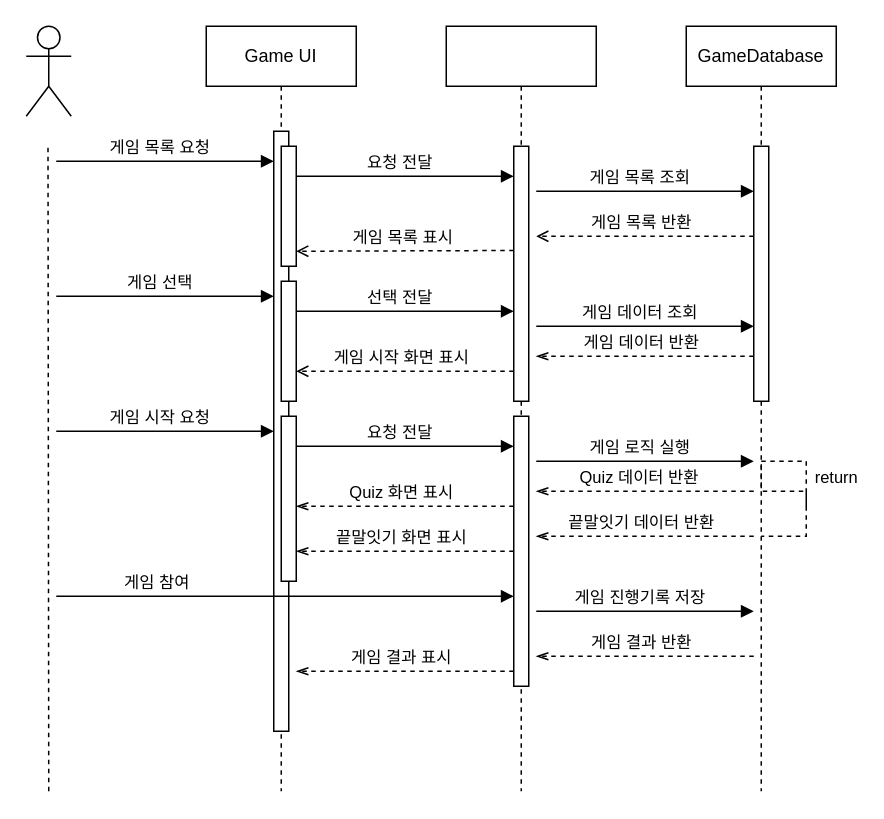
The diagram is 884 pixels wide and 819 high, and some of its shapes have lost their labels. Each missing label, with the box of its shape:
Actor: (25, 25, 71, 116)
GameController: (445, 25, 596, 791)
